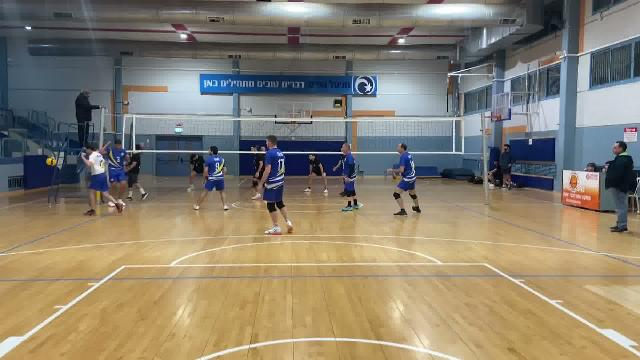ball: (43, 154, 58, 168)
